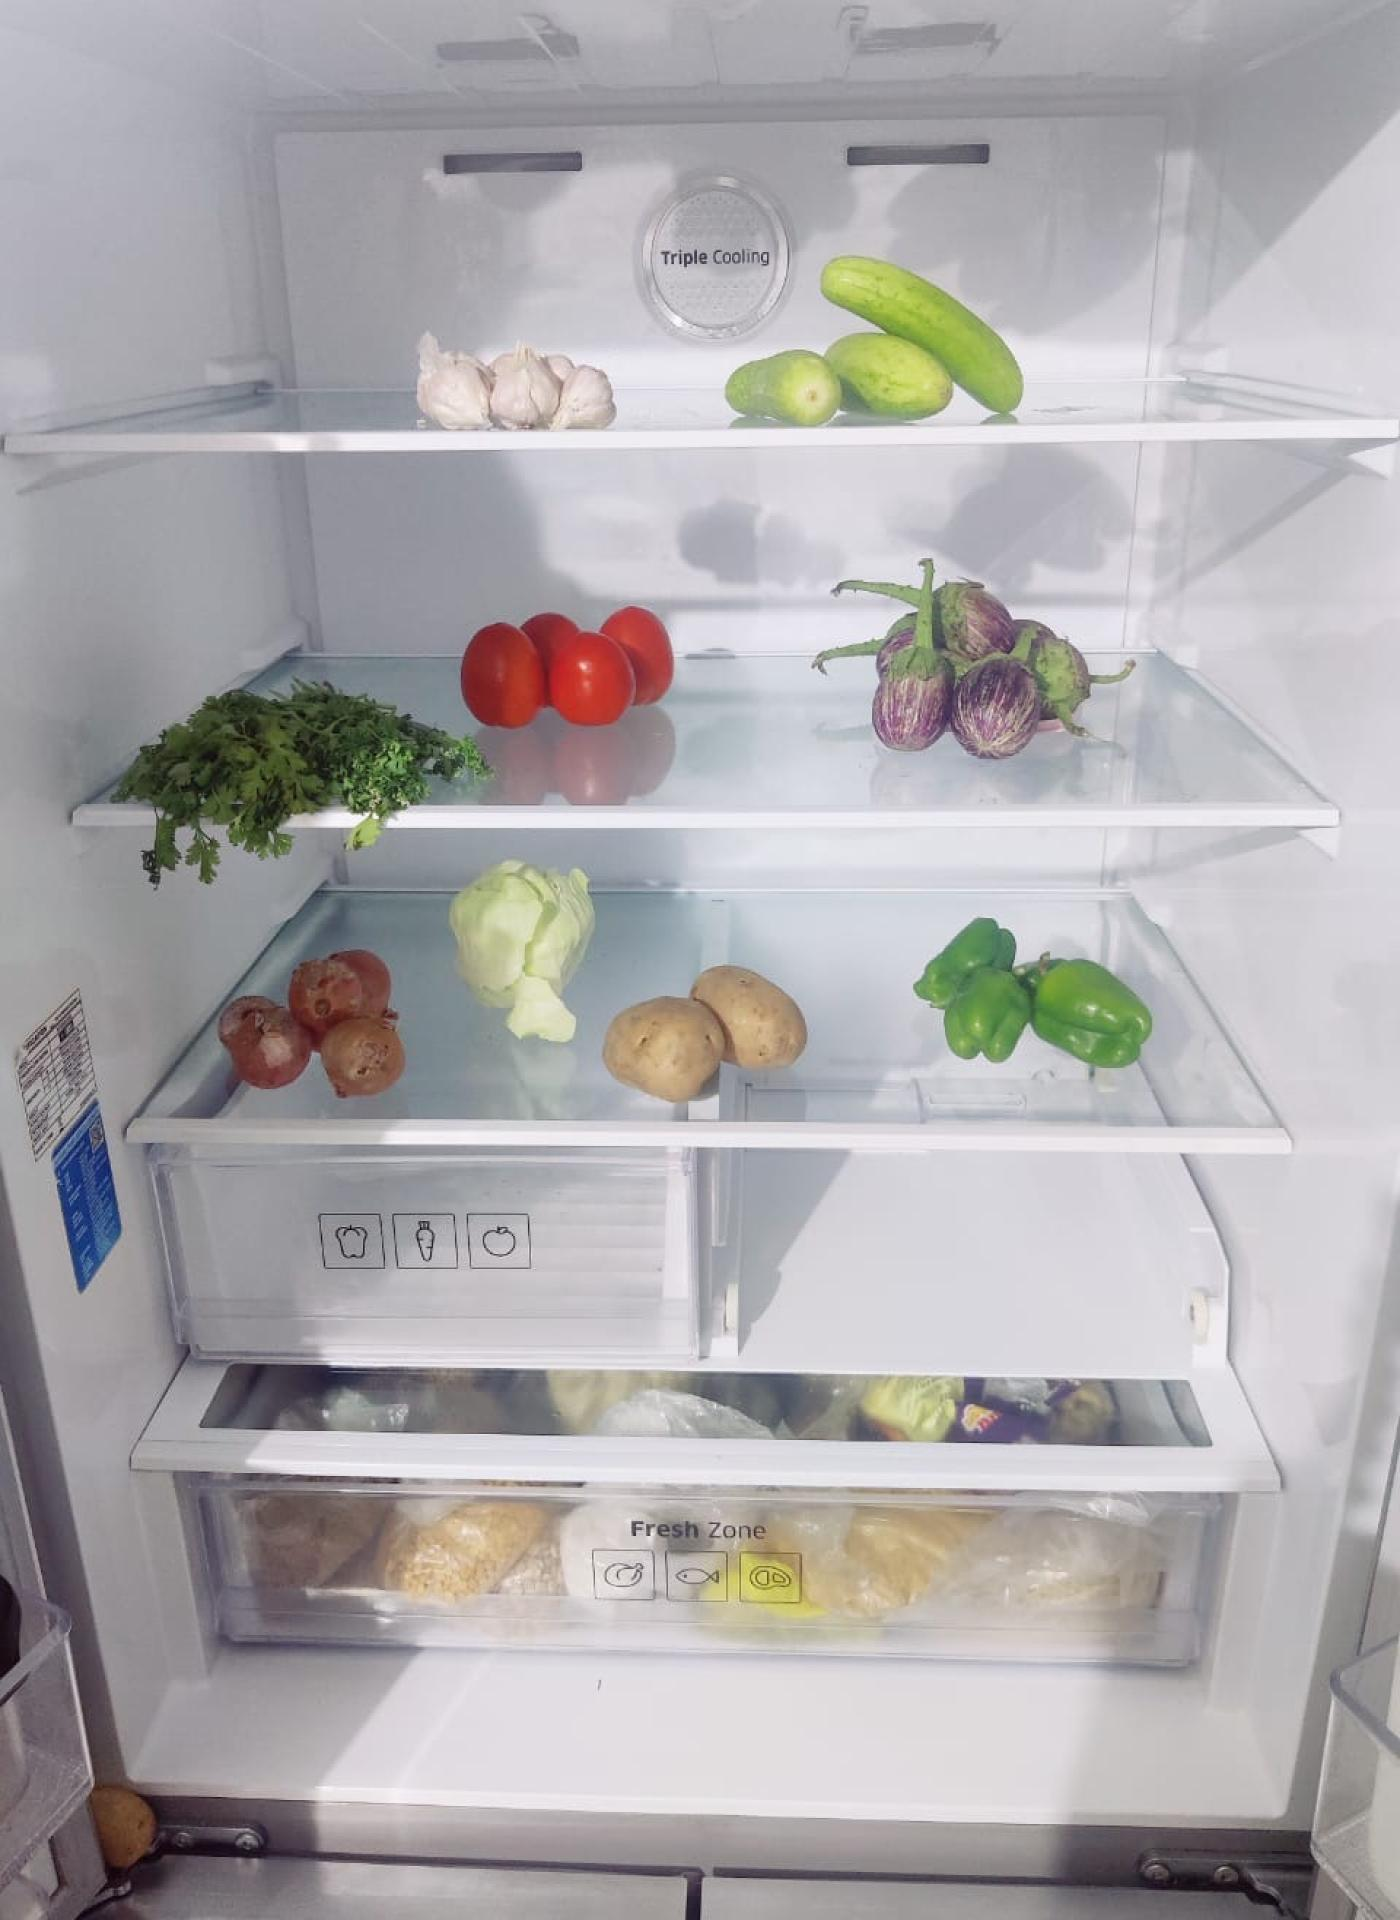brinjal: (833, 574, 1097, 748)
cabbage: (447, 859, 592, 1018)
capsicum: (914, 923, 1154, 1075)
coriander: (121, 693, 480, 841)
cucumber: (722, 252, 1027, 428)
garlic: (409, 334, 614, 434)
onion: (222, 951, 416, 1103)
potato: (608, 963, 814, 1102)
tomato: (459, 605, 675, 729)
